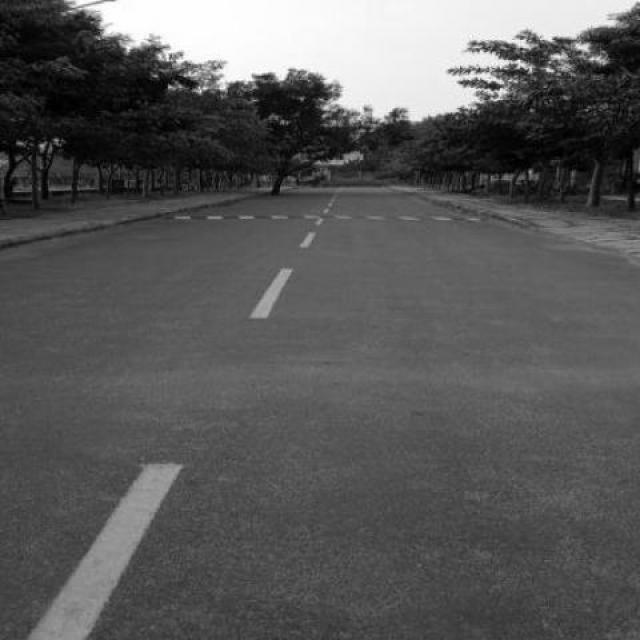Speed Bump: (162, 212, 480, 222)
